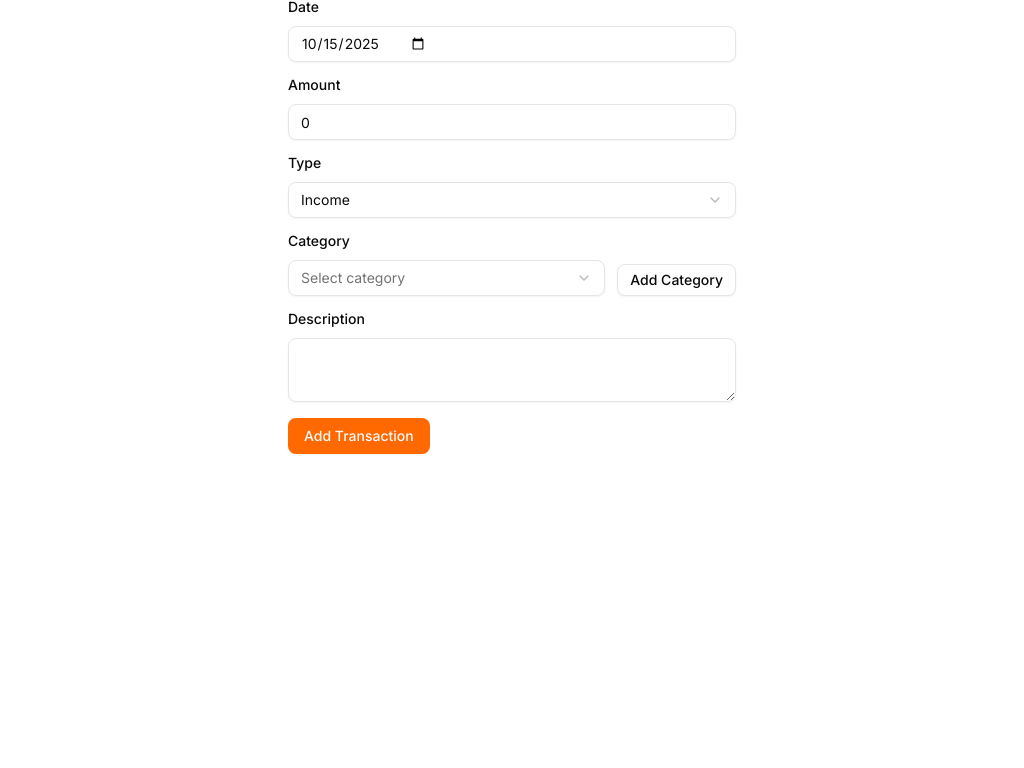
Test case: CreateTransactionForm › should show add category button and dialog
Click the button "Add Category" at (677, 280), box [617,264,736,296]
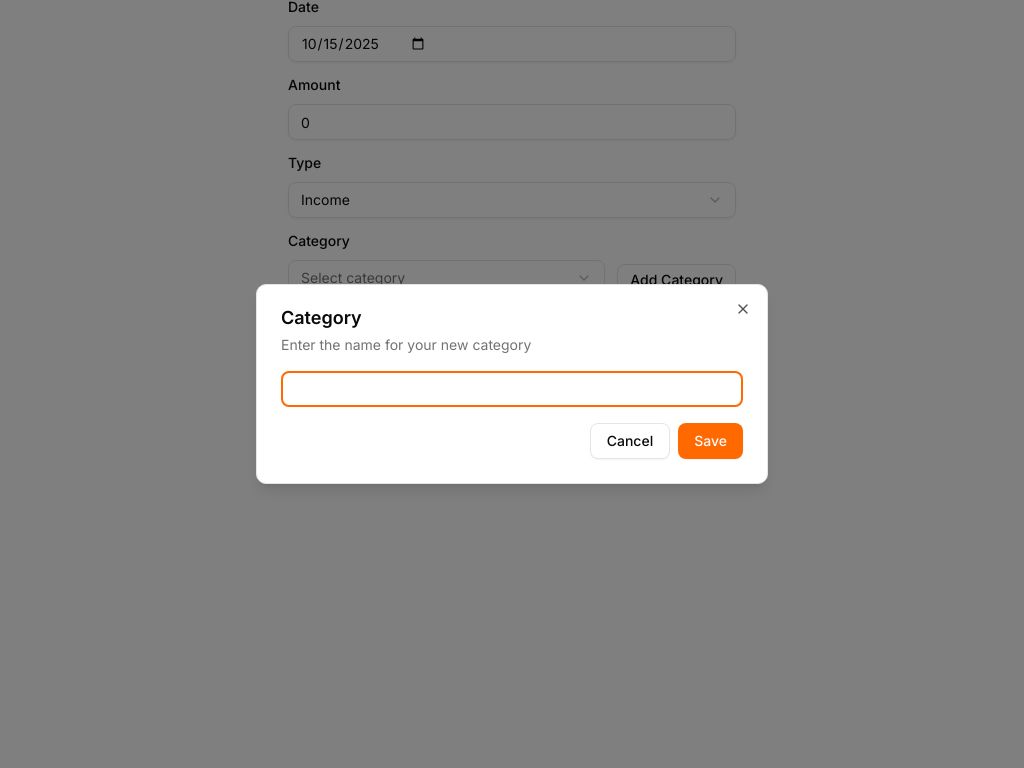
expect the dialog is shown: met, box [256,284,768,484]
expect the heading "Category" is shown: met, box [281,307,362,328]
